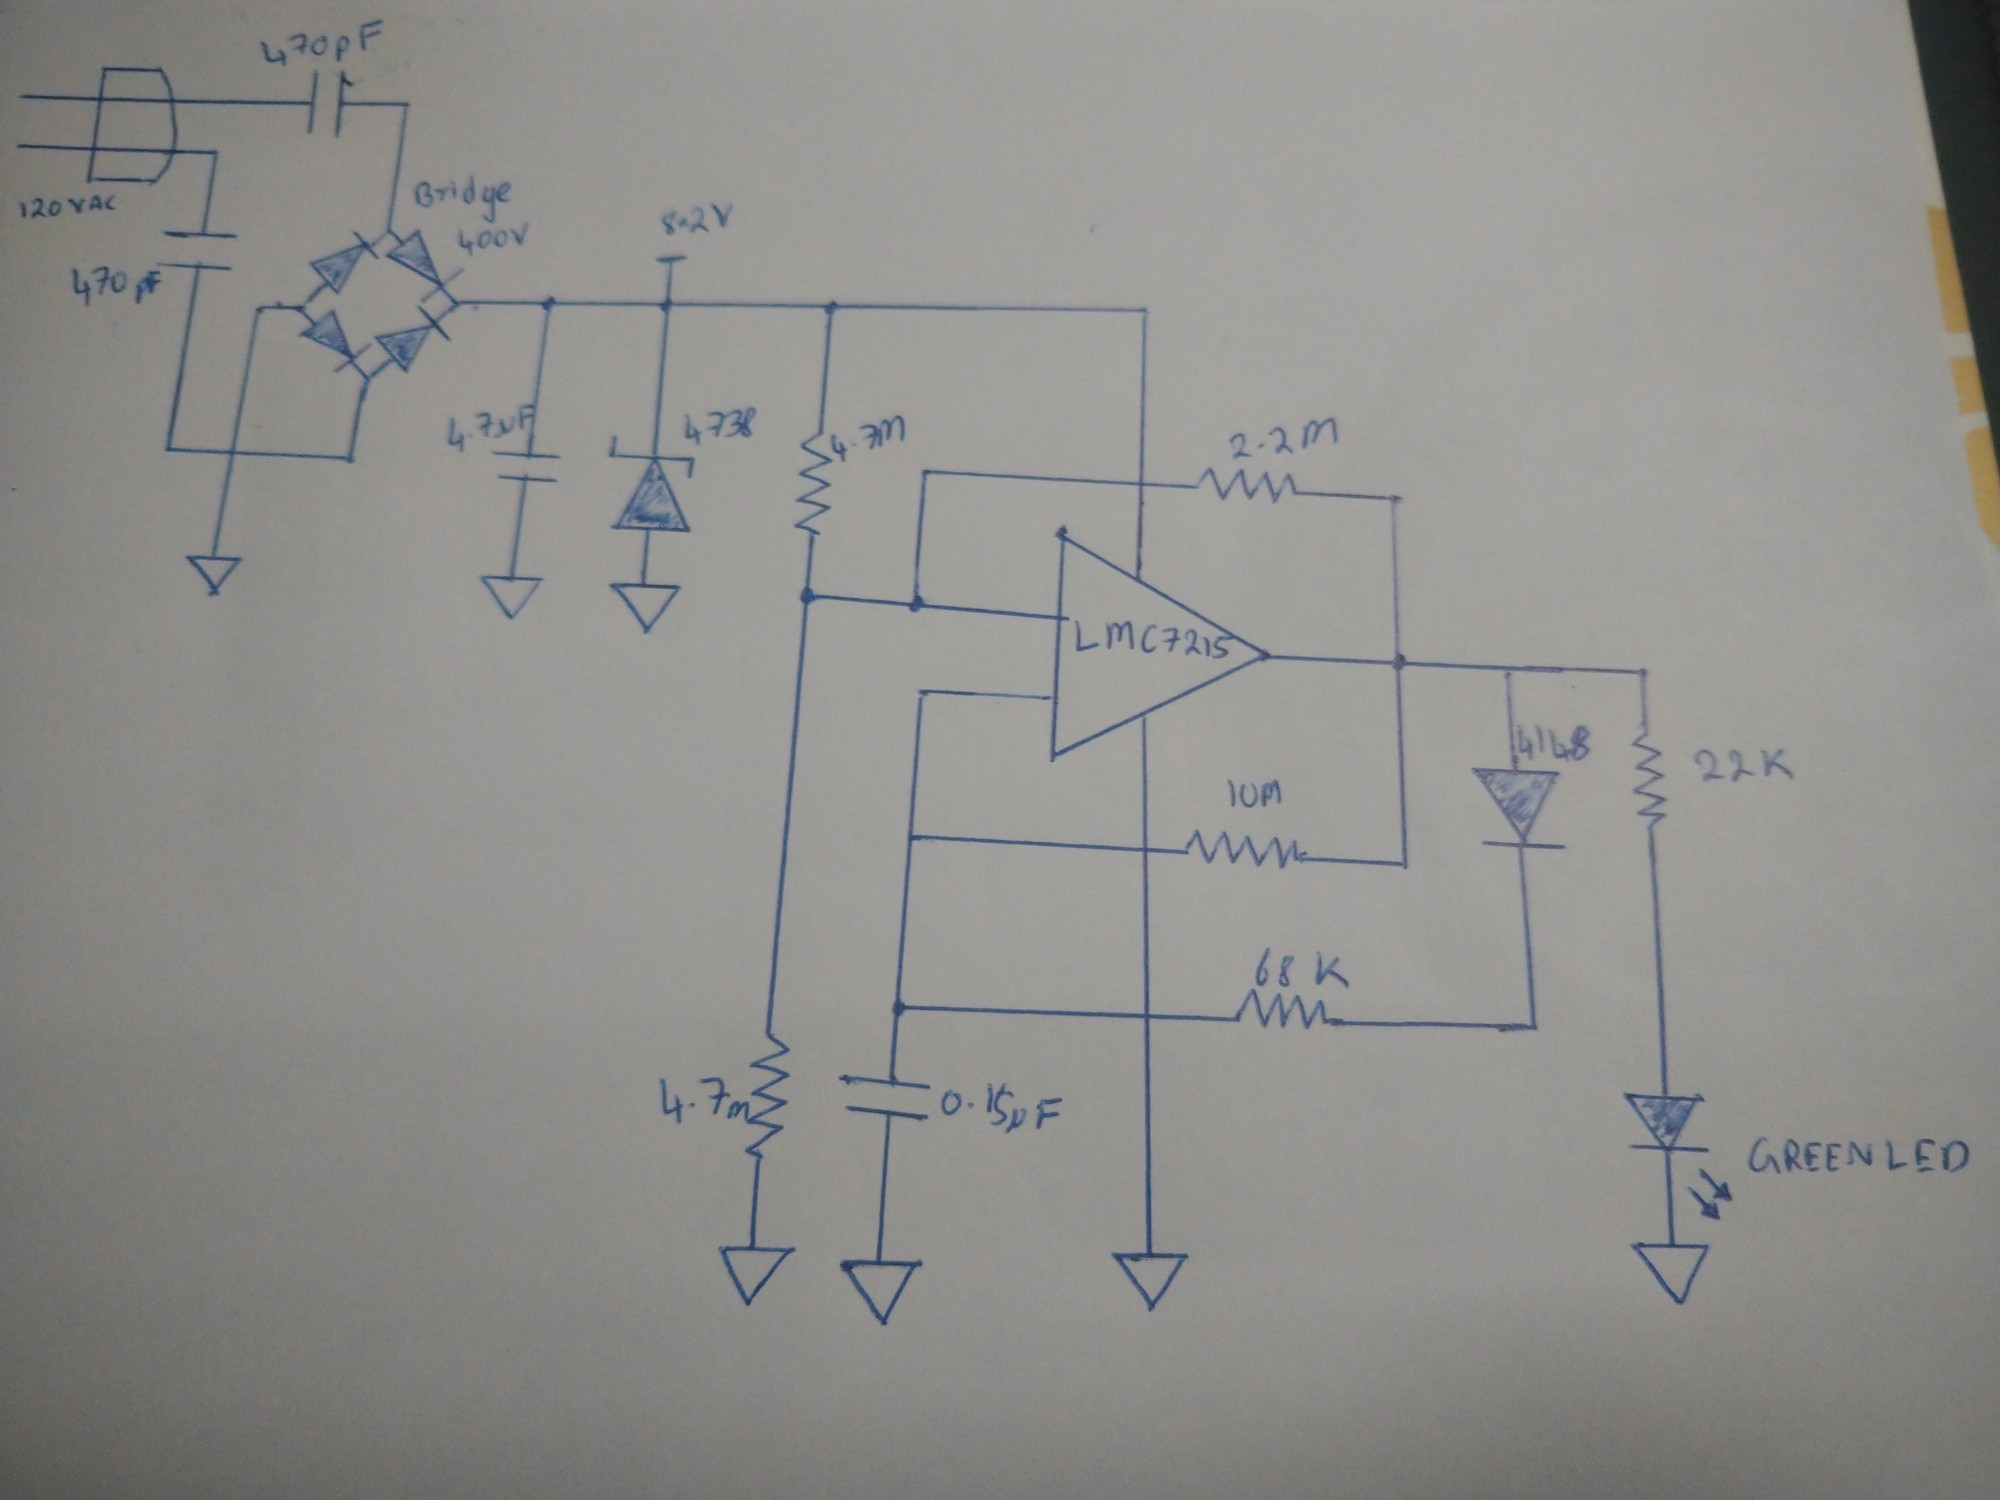capacitor.unpolarized: (836, 1073, 932, 1127), (157, 228, 239, 276), (306, 68, 351, 140), (488, 449, 565, 488)
crossover: (1135, 838, 1156, 859), (224, 444, 244, 463), (1139, 1005, 1157, 1026), (1132, 476, 1156, 492)
diode: (602, 432, 698, 537), (1468, 764, 1572, 856), (384, 230, 465, 303), (372, 306, 454, 373), (306, 228, 380, 296), (301, 310, 372, 377)
diode.light_emitting: (1624, 1089, 1735, 1223)
gnd: (838, 1256, 928, 1328), (1628, 1240, 1712, 1308), (715, 1242, 795, 1311), (1109, 1246, 1191, 1312), (606, 578, 683, 637), (477, 570, 546, 622), (184, 551, 246, 600)
junction: (654, 291, 680, 318), (820, 291, 843, 321), (795, 585, 820, 610), (912, 682, 935, 706), (906, 594, 928, 616), (890, 994, 910, 1018), (359, 370, 380, 392), (539, 295, 561, 314), (1391, 651, 1409, 673), (380, 222, 398, 241), (447, 296, 465, 315), (1135, 303, 1154, 320), (1386, 490, 1405, 507), (397, 98, 416, 115), (205, 147, 225, 162), (340, 449, 357, 466), (906, 827, 921, 846), (1635, 663, 1654, 679), (1528, 1016, 1543, 1034), (291, 301, 309, 317), (917, 465, 932, 481), (1397, 856, 1413, 871), (157, 443, 175, 457), (1502, 662, 1517, 679), (252, 303, 266, 318)
operational_amplifier: (1047, 523, 1274, 766)
resistor: (742, 1030, 797, 1163), (1184, 826, 1306, 876), (791, 430, 836, 537), (1233, 989, 1335, 1037), (1195, 466, 1302, 507), (1628, 730, 1671, 830)
socket: (82, 61, 183, 184)
terminal: (654, 251, 691, 268), (14, 88, 33, 104), (9, 139, 28, 154)
text: (1745, 1133, 1972, 1179), (939, 1078, 1063, 1138), (1072, 619, 1238, 660), (258, 17, 384, 69), (650, 1070, 753, 1130), (411, 172, 515, 225), (1227, 414, 1340, 462), (443, 399, 532, 455), (68, 263, 165, 310), (1250, 945, 1353, 989), (830, 411, 910, 466), (1691, 745, 1795, 785), (1513, 722, 1595, 766), (16, 191, 118, 225), (682, 403, 759, 449), (454, 221, 531, 260), (660, 199, 737, 238), (1224, 777, 1285, 810)
